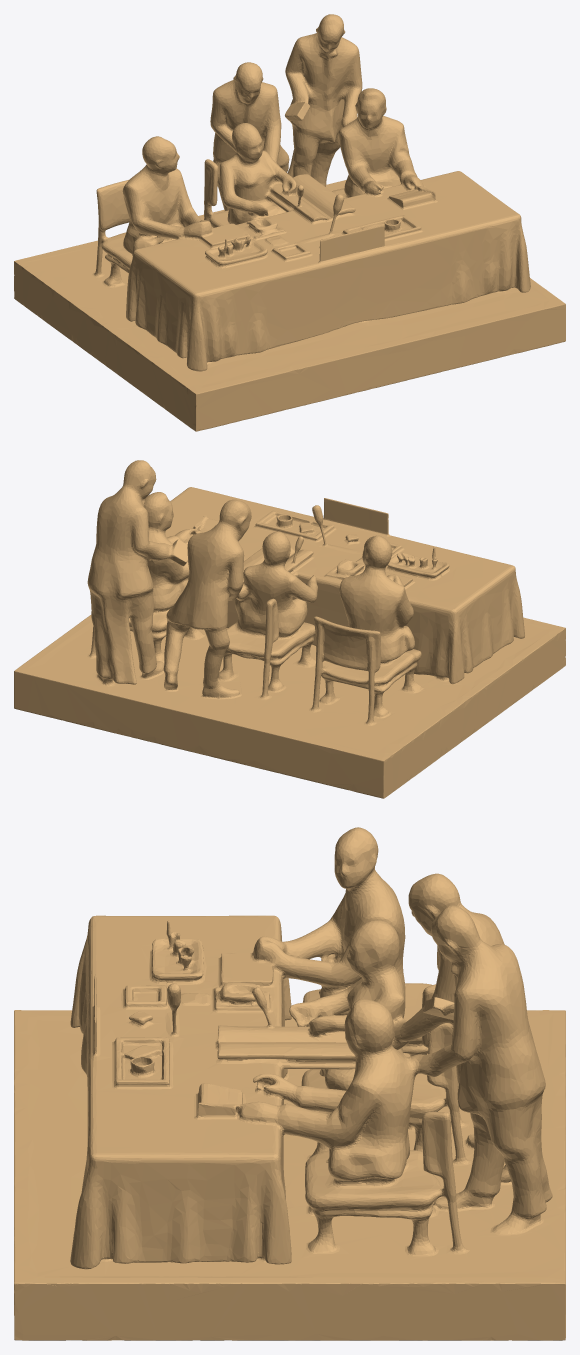
File: madam_binh_ky_hiep_dinh_paris.glb
3 views of the same model, one above another, from view 1: azimuth 30°, elevation 25°; view 2: azimuth 150°, elevation 25°; view 3: azimuth 270°, elevation 25° (orthographic). The views are drawn at different scales.
Visible parts, largest first — view 1: Madam Bình và hiệp ddihj Pari; view 2: Madam Bình và hiệp ddihj Pari; view 3: Madam Bình và hiệp ddihj Pari.
Part boxes in pixels (left/top/right/bottom): Madam Bình và hiệp ddihj Pari: left=14, top=14, right=565, bottom=431; Madam Bình và hiệp ddihj Pari: left=14, top=460, right=565, bottom=798; Madam Bình và hiệp ddihj Pari: left=14, top=827, right=565, bottom=1340.
Bounding box in the file's own units: 79.88 × 50.01 × 68.13.
